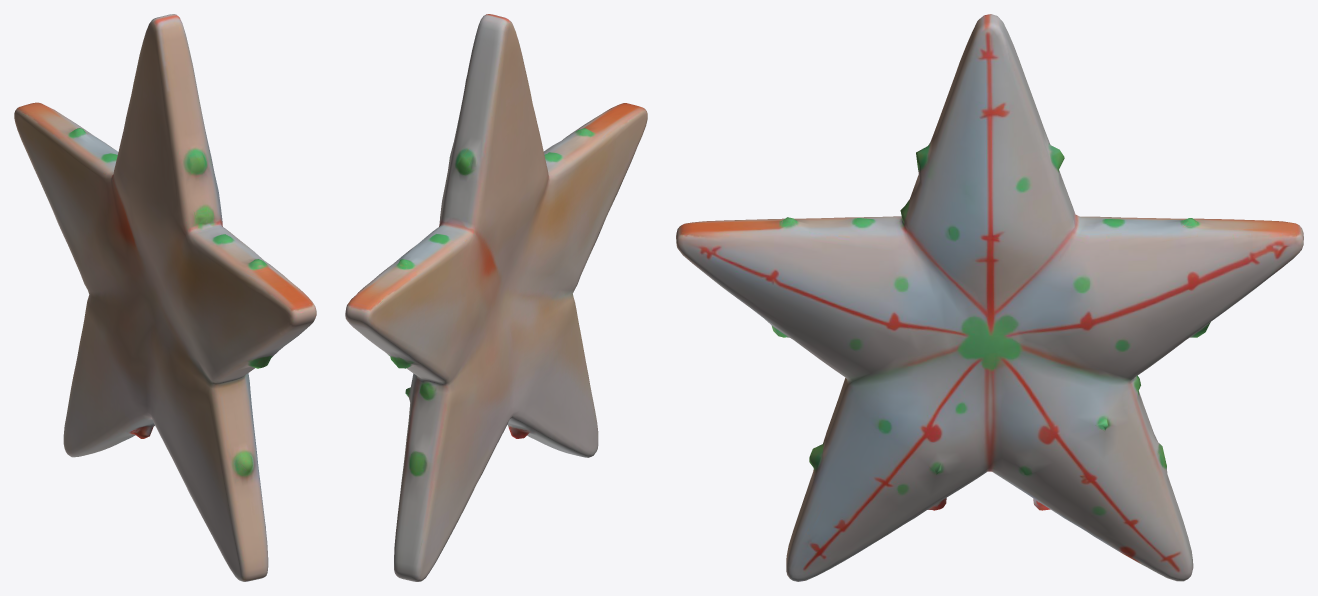
The model's file is star.glb.
3 views of the same model, side by side, from view 1: azimuth 30°, elevation 25°; view 2: azimuth 150°, elevation 25°; view 3: azimuth 270°, elevation 25° (orthographic). The views are drawn at different scales.
Parts seen in each view (by area): view 1: tripo_node_9c4d78f3-28ff-4195-9b7b-6e8b9f452422; view 2: tripo_node_9c4d78f3-28ff-4195-9b7b-6e8b9f452422; view 3: tripo_node_9c4d78f3-28ff-4195-9b7b-6e8b9f452422.
Boxes of the visible parts, <box> form: tripo_node_9c4d78f3-28ff-4195-9b7b-6e8b9f452422: <box>14,14,316,581</box>; tripo_node_9c4d78f3-28ff-4195-9b7b-6e8b9f452422: <box>345,14,647,581</box>; tripo_node_9c4d78f3-28ff-4195-9b7b-6e8b9f452422: <box>676,14,1303,581</box>.
Bounding box in the file's own units: 0.1296 × 0.9323 × 0.9495.
Materials: 1 (1 with a texture image).
